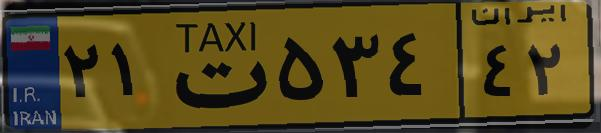1: (110, 28, 158, 98)
2: (57, 26, 110, 100), (525, 38, 570, 115)
3: (330, 28, 385, 110)
4: (385, 28, 445, 110), (475, 38, 525, 113)
5: (270, 28, 330, 110)
ت: (158, 12, 270, 120)
